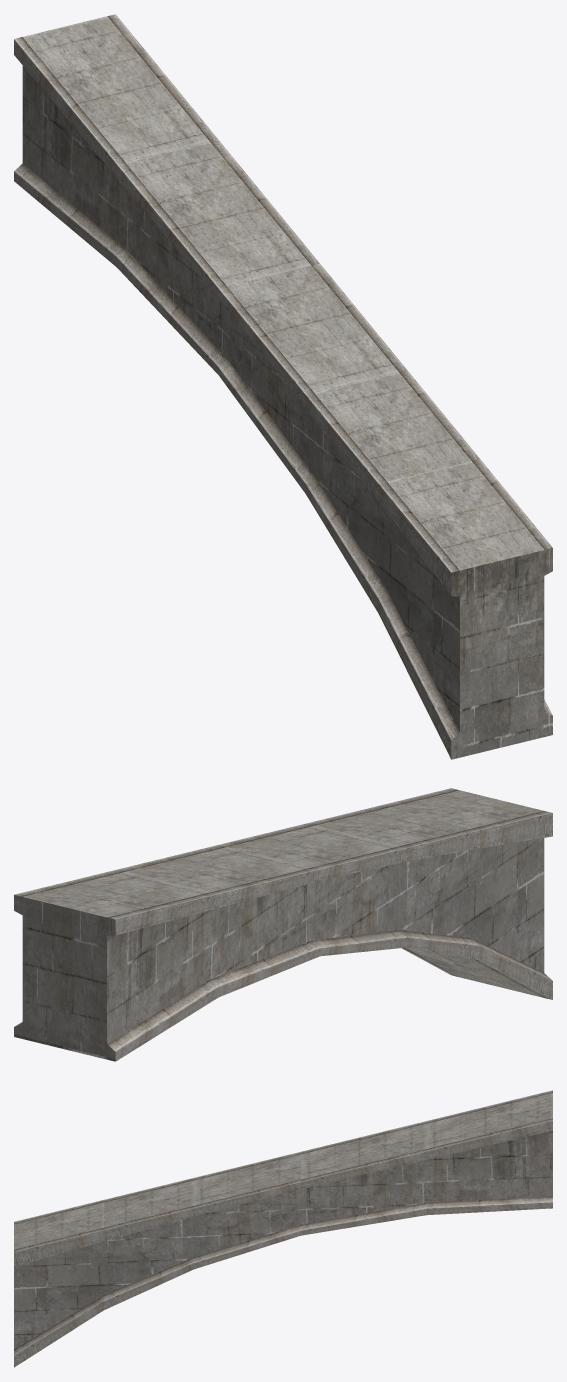
The model's file is bg_lut_lucastle_churchtower12_sm_ksh.FBX.
3 views of the same model, one above another, from view 1: azimuth 30°, elevation 25°; view 2: azimuth 150°, elevation 25°; view 3: azimuth 270°, elevation 25° (orthographic). The views are drawn at different scales.
Parts seen in each view (by area): view 1: bg_lut_lucastle_churchtower12_sm_ksh; view 2: bg_lut_lucastle_churchtower12_sm_ksh; view 3: bg_lut_lucastle_churchtower12_sm_ksh.
Part boxes in pixels (x1,y1,x2,y2): bg_lut_lucastle_churchtower12_sm_ksh: (14, 14, 552, 759); bg_lut_lucastle_churchtower12_sm_ksh: (14, 788, 552, 1061); bg_lut_lucastle_churchtower12_sm_ksh: (14, 1090, 552, 1367).
Bounding box in the file's own units: 75.73 × 285 × 564.
